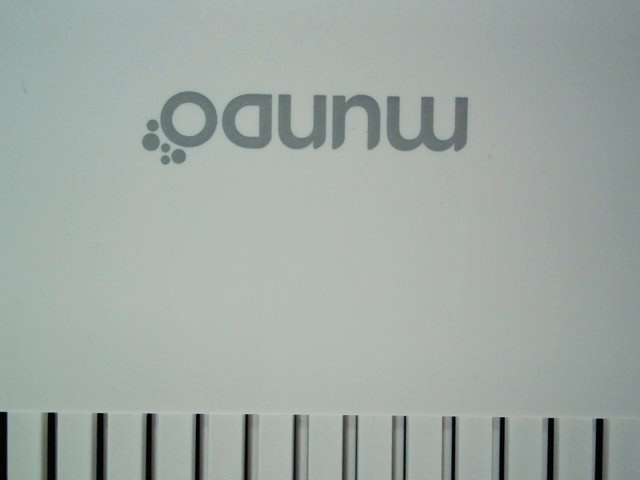BI_MUNDO: (130, 81, 490, 168)
